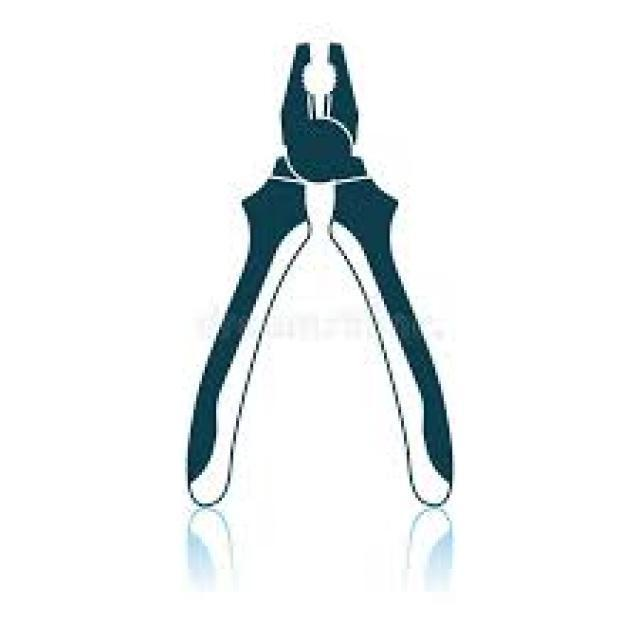pliers: (187, 31, 455, 512)
